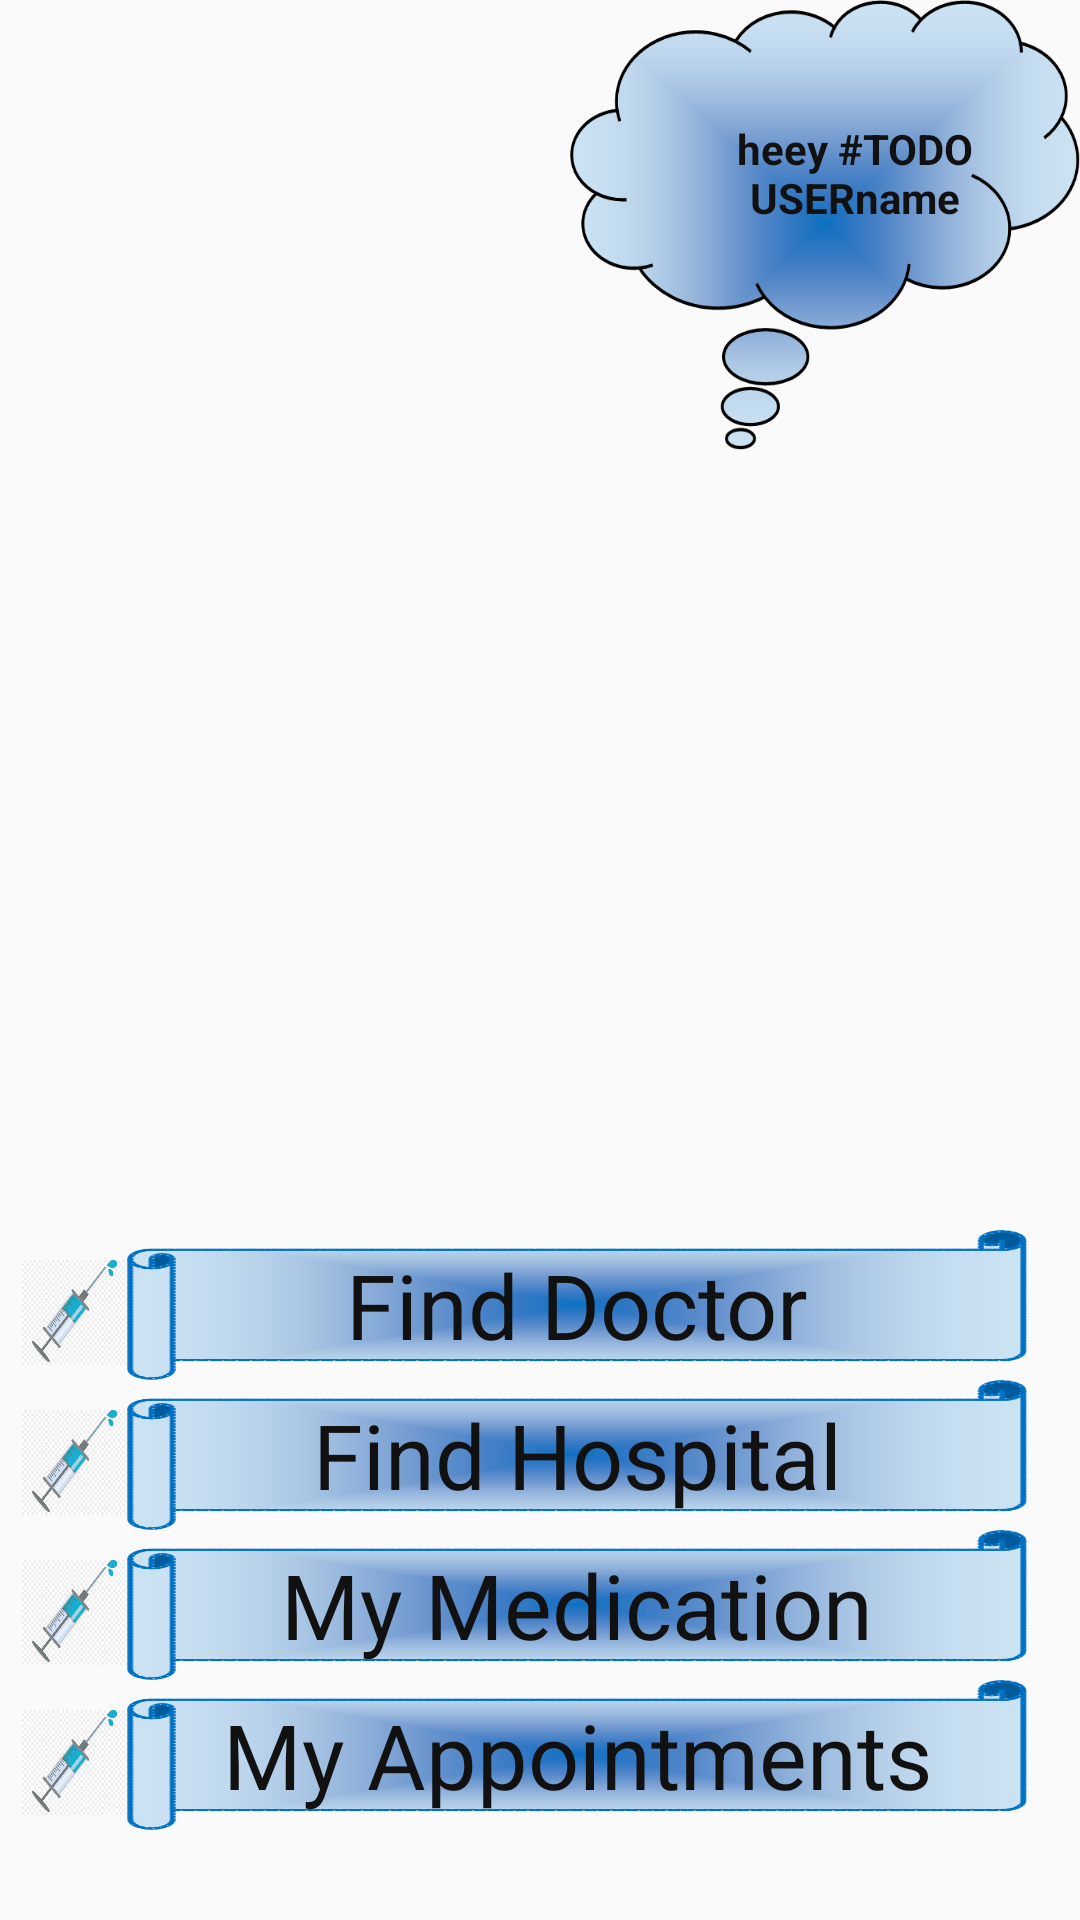

Named icons in this screenshot (1080×1920) and their bounding boxes, (left=x1, top=y1, right=x2, bottom=y2):
needle: (left=32, top=1260, right=117, bottom=1362), (left=32, top=1410, right=117, bottom=1512), (left=32, top=1560, right=117, bottom=1662), (left=32, top=1710, right=117, bottom=1812)
